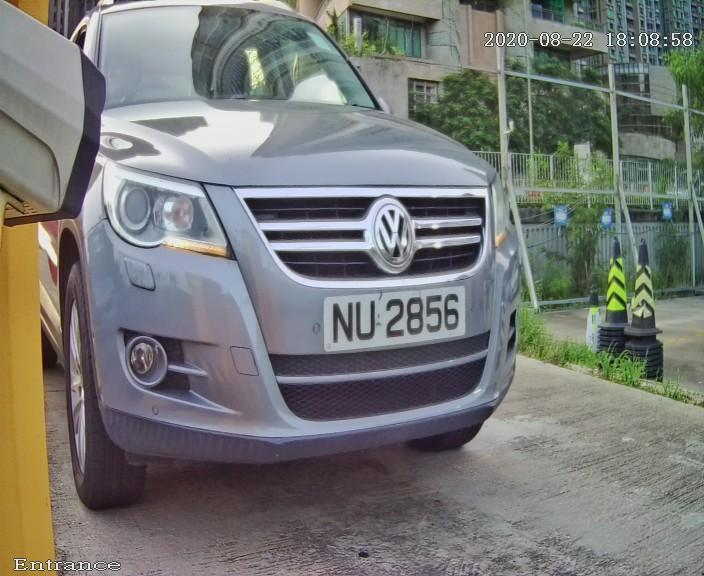Car: (38, 6, 544, 510)
License Plate: (301, 259, 500, 375)
